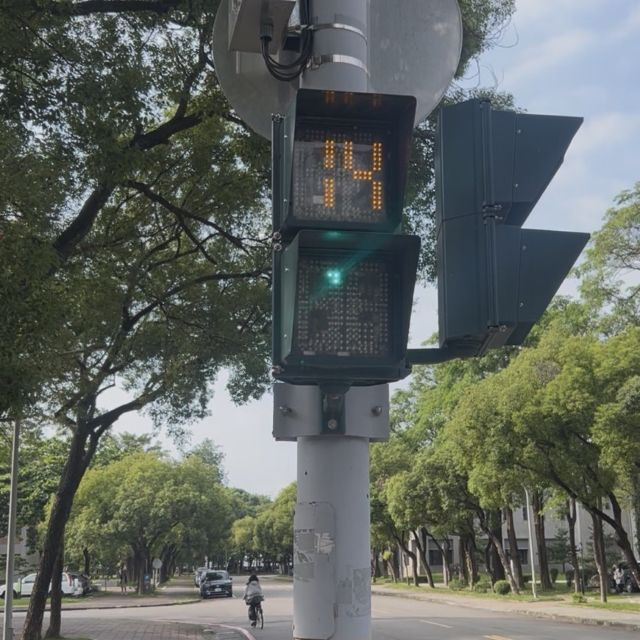green_light: (273, 88, 415, 377)
